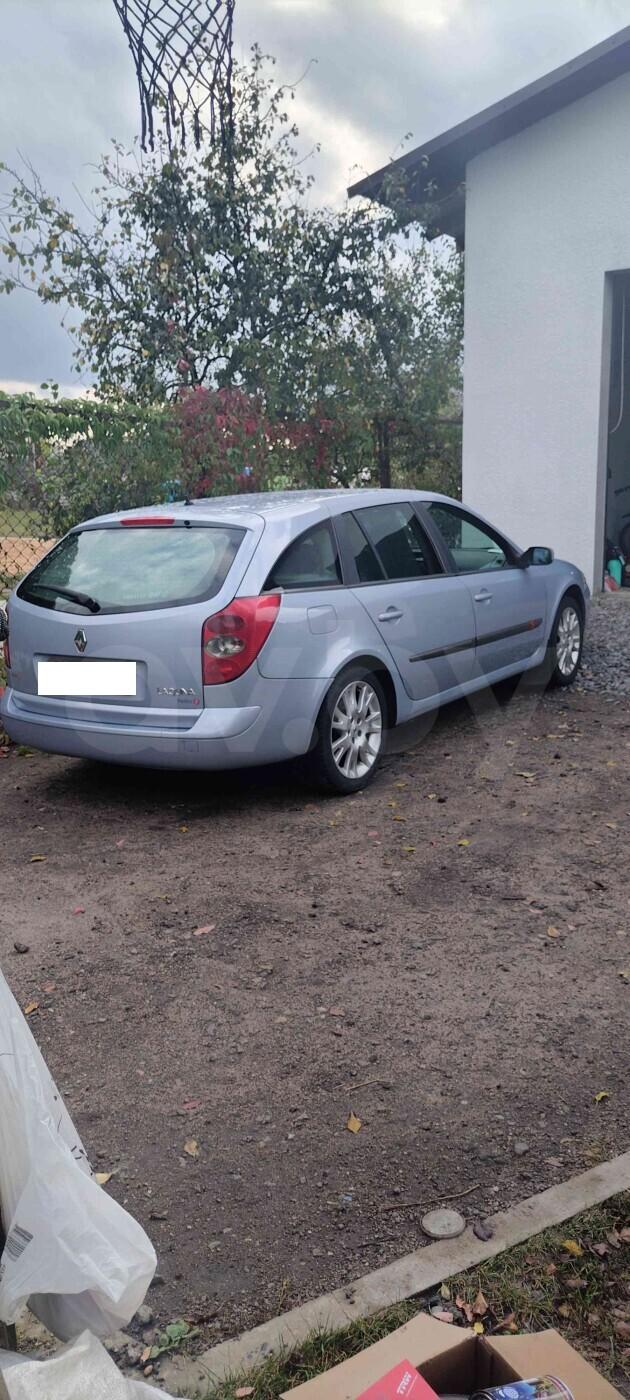Laguna_2001-2005: (0, 488, 589, 795)
